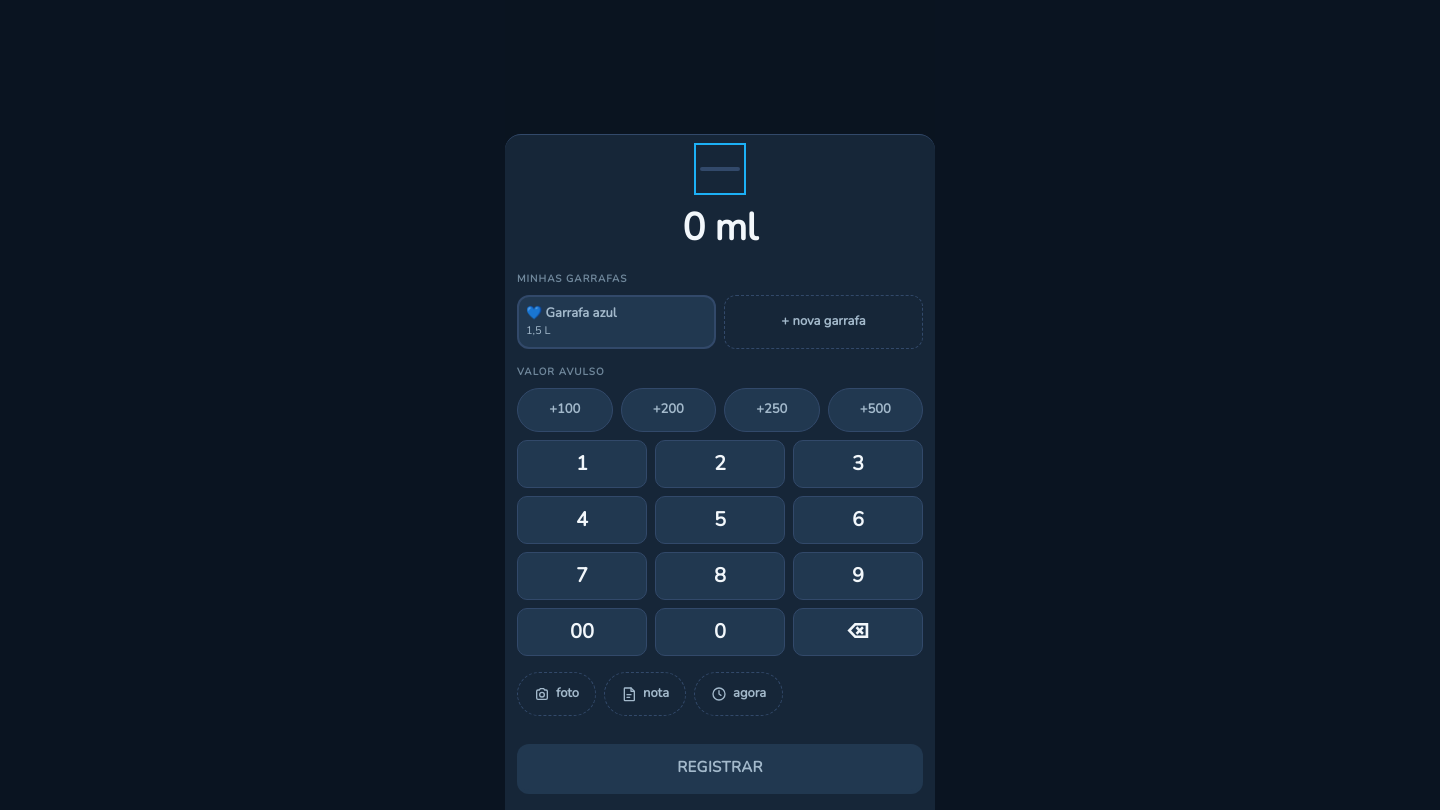
Test case: RegisterSheet › shows a live character counter under the nota field
Click the button "nota" at coordinates (645, 694), box 604,672 -> 686,716
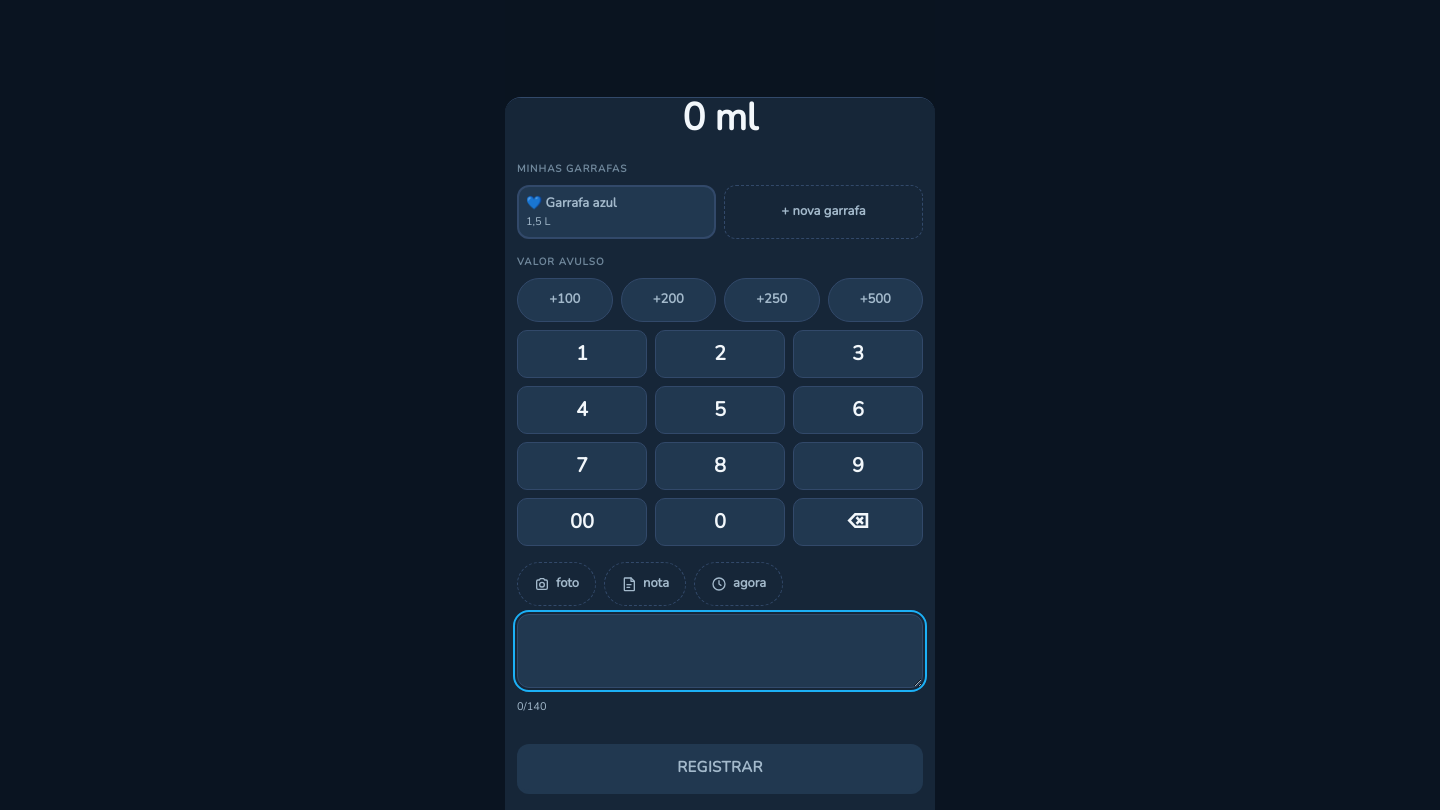
Result: the text "0/140" is shown at 517,699 -> 546,714
Type "pós treino" into the text box at coordinates (720, 651), box 517,614 -> 923,688
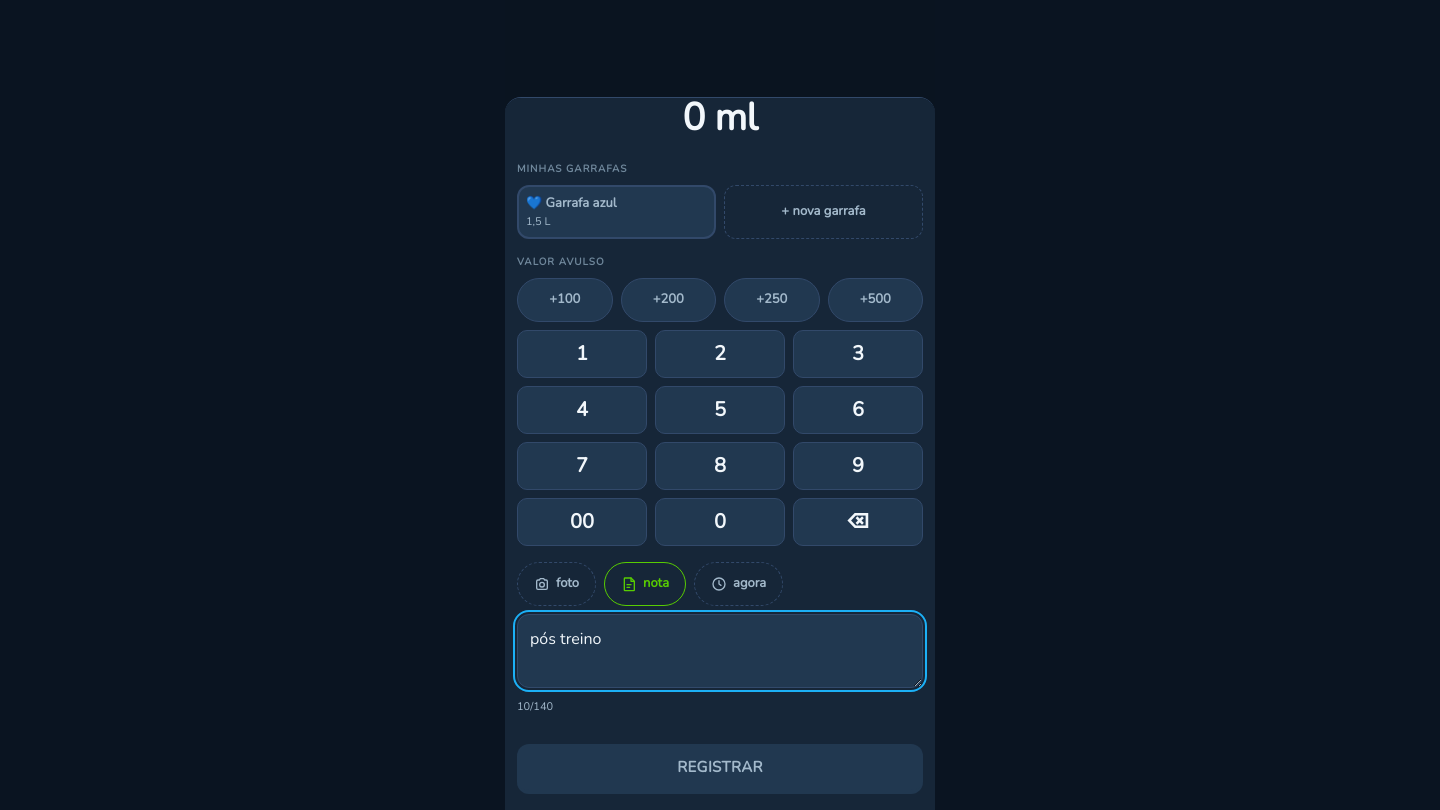
Result: the text "10/140" is shown at 517,699 -> 553,714
